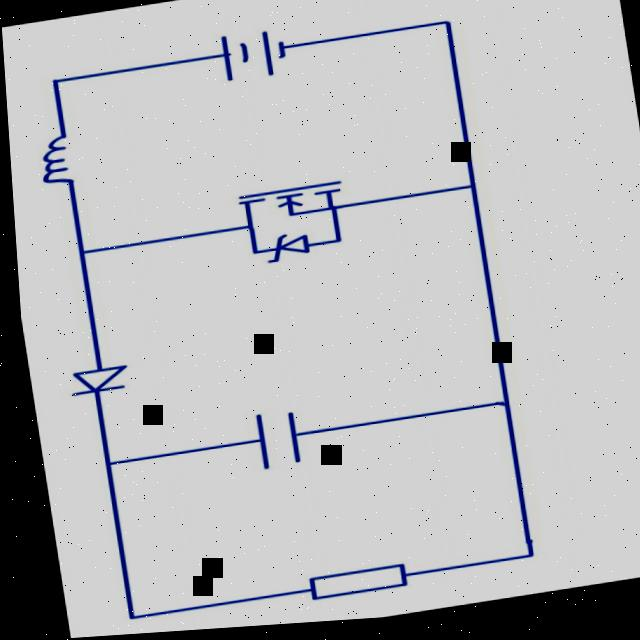capacitor: (218, 400, 325, 487)
diode: (51, 354, 140, 410), (255, 228, 318, 270)
inductor: (30, 128, 94, 199)
mosfet: (207, 166, 364, 247)
resistor: (263, 553, 419, 618)
source: (200, 20, 308, 92)
